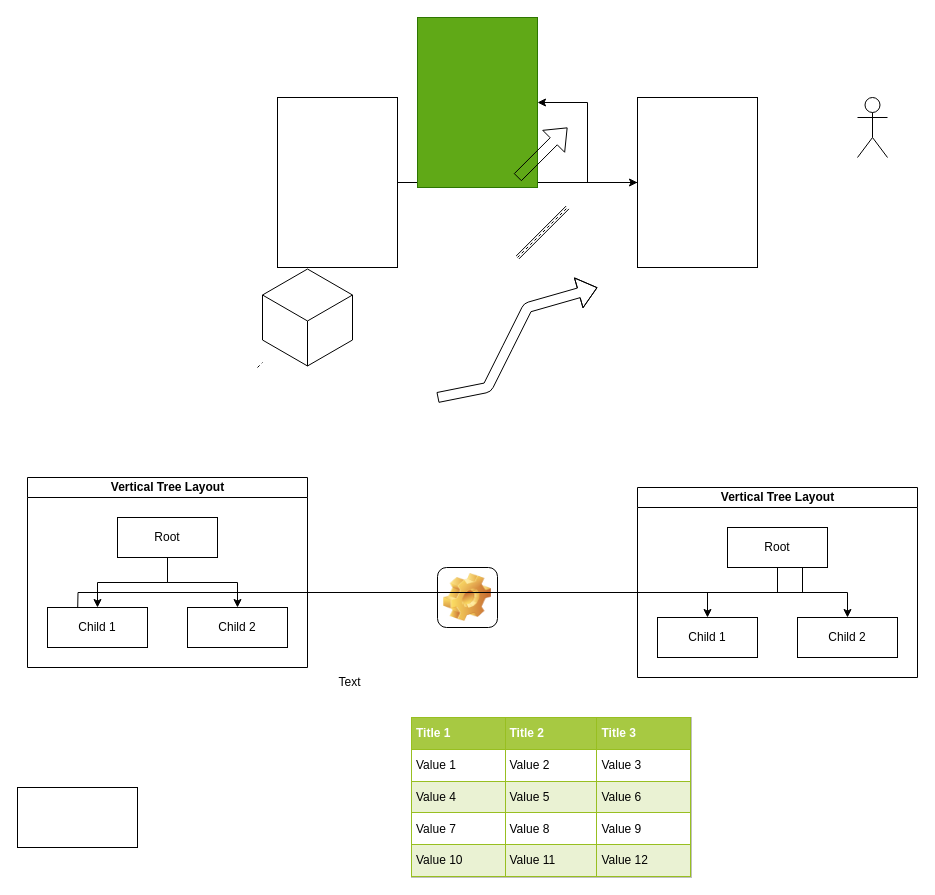
Image size: 935x895. Some labels were removed from this diagram. Here are the shapes that lost their labels. From the top down, the centre of each, then its label:
(x=872, y=127): Actor
(x=467, y=597): Icon
